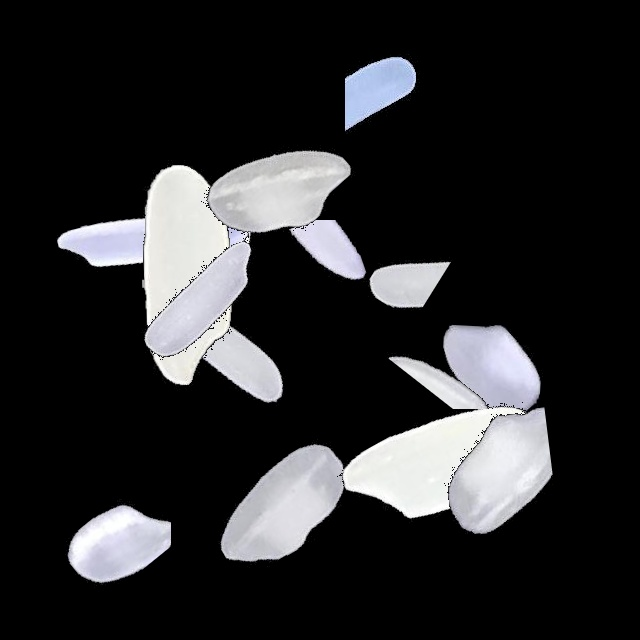Broken: (344, 391, 594, 557), (12, 383, 171, 633), (285, 41, 535, 172), (259, 185, 509, 312), (347, 296, 597, 409), (200, 220, 450, 330), (121, 210, 371, 316)
Full: (365, 247, 615, 497), (30, 115, 280, 365), (158, 381, 408, 631), (320, 338, 570, 588), (97, 227, 347, 477), (60, 148, 310, 398), (74, 177, 324, 427), (156, 62, 406, 312)
